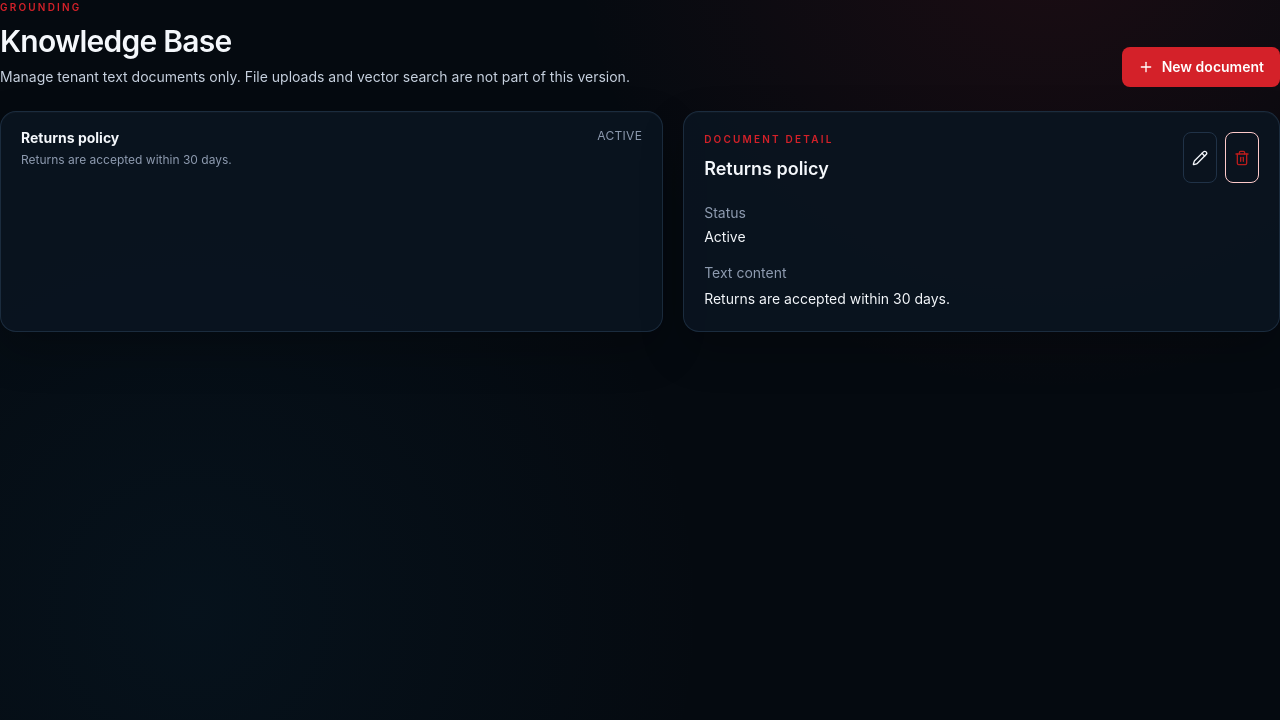
Test: KnowledgeBasePage legacy behavior › edits the selected document through the existing mutation
Click the button named "Edit document" at (1200, 158), box [1183,132,1217,183]
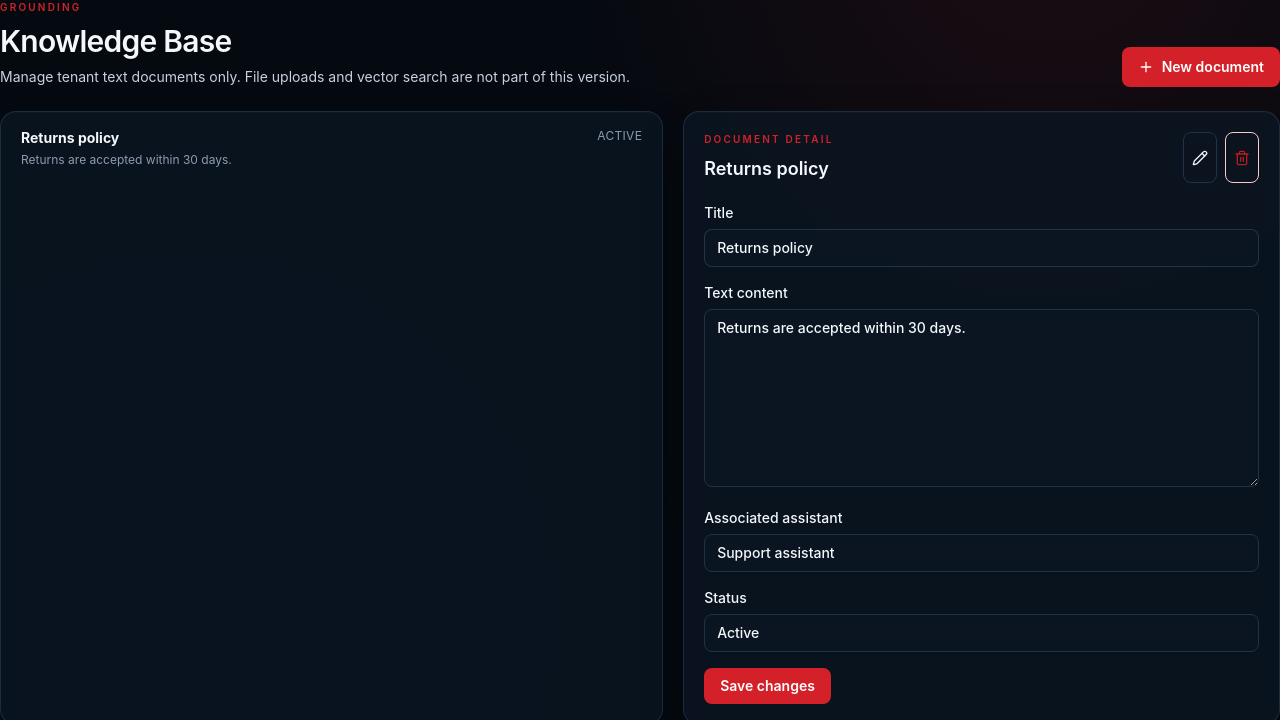
Replace the text in the field labelled "Title" with "Updated returns" at (982, 248), box [704,229,1259,267]
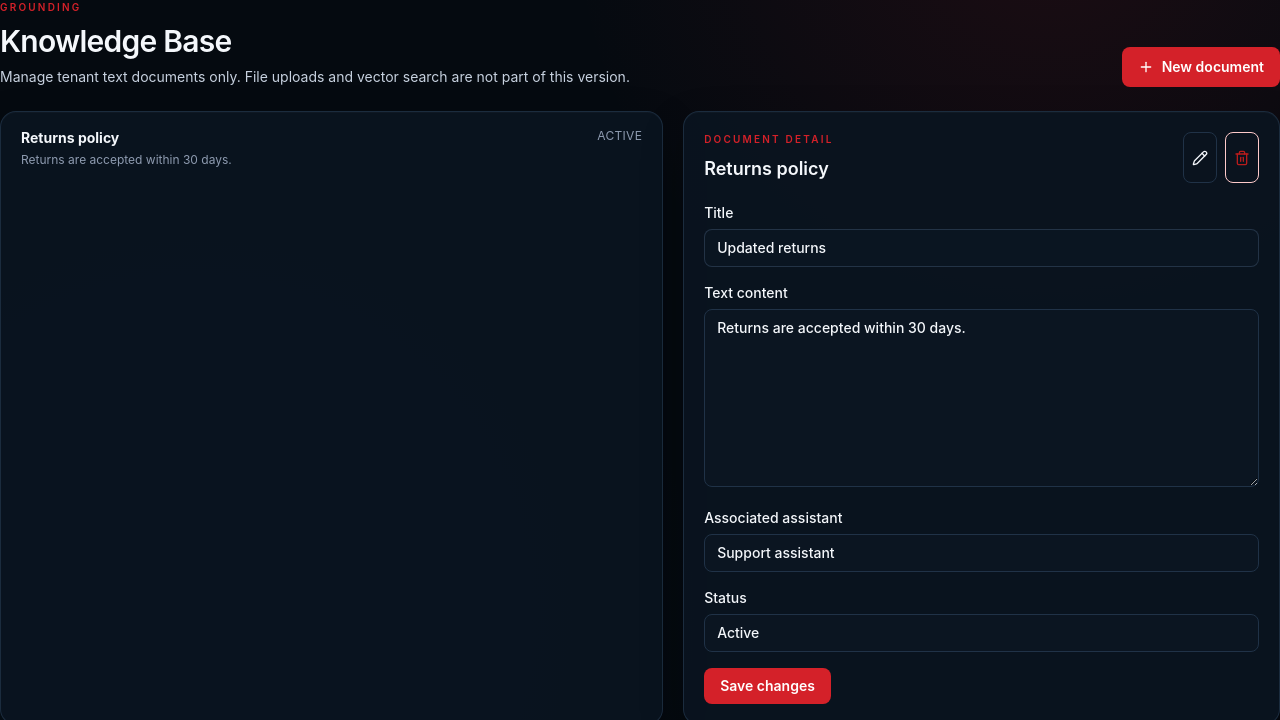
Click the button "Save changes" at (768, 686), box [704,668,831,704]
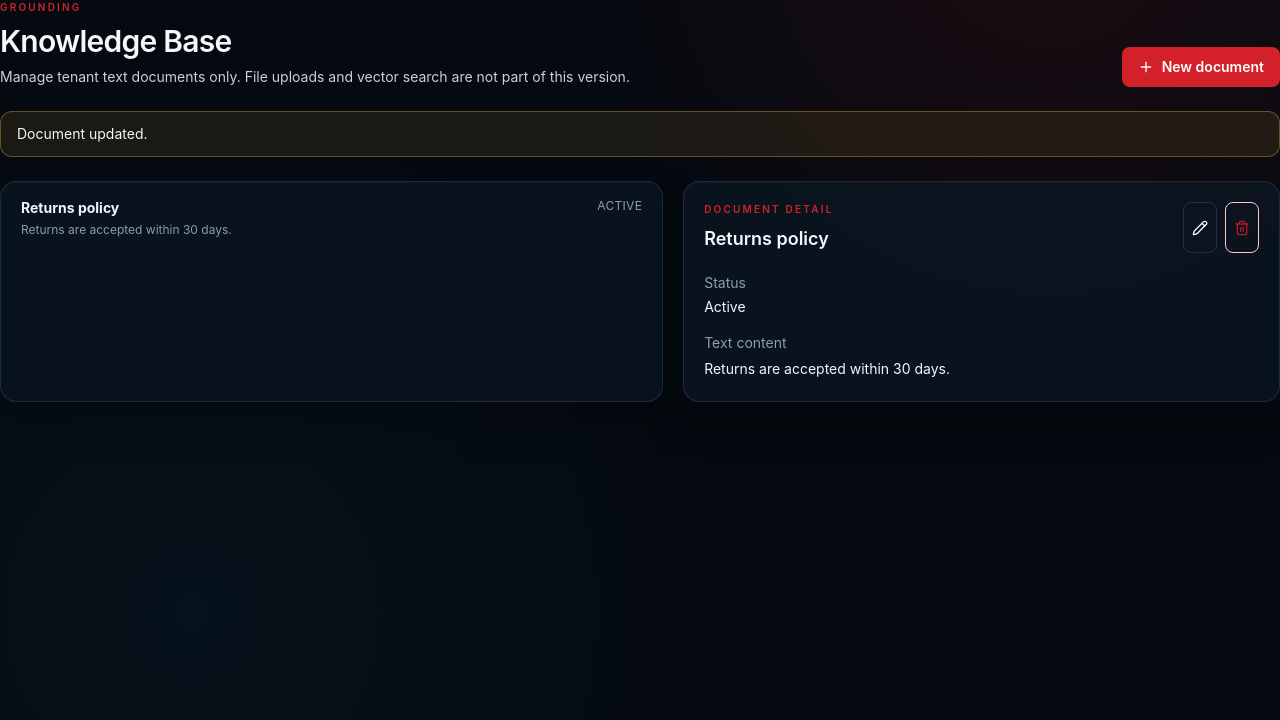
Result: the text "Document updated." is shown at [0,111,1279,157]
